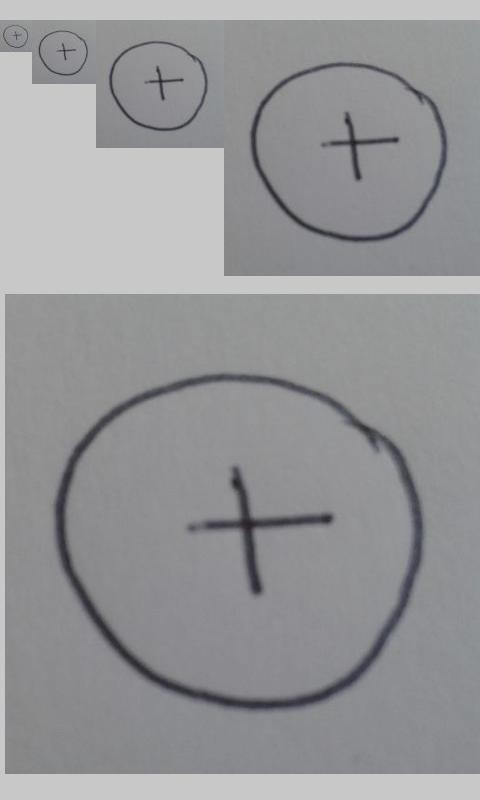button: (50, 369, 427, 713), (249, 61, 449, 244), (109, 40, 208, 132), (38, 29, 88, 76), (3, 24, 29, 48)
